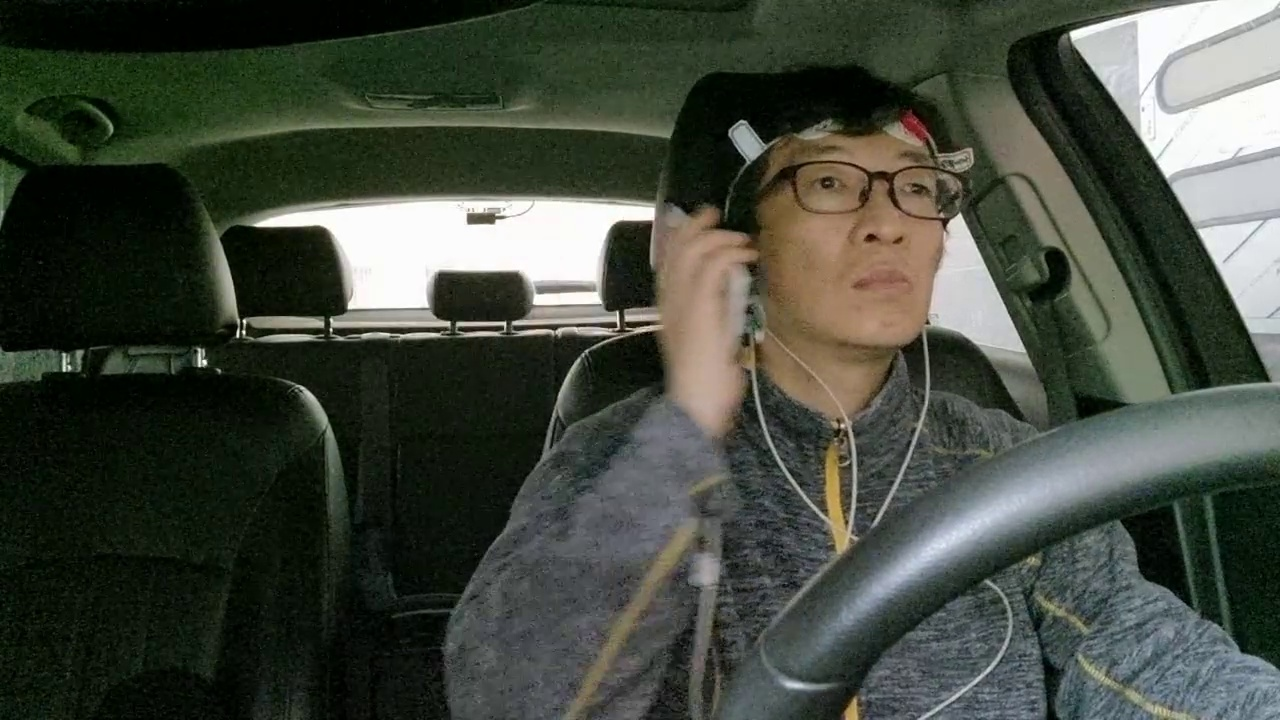phone: (623, 182, 773, 365)
